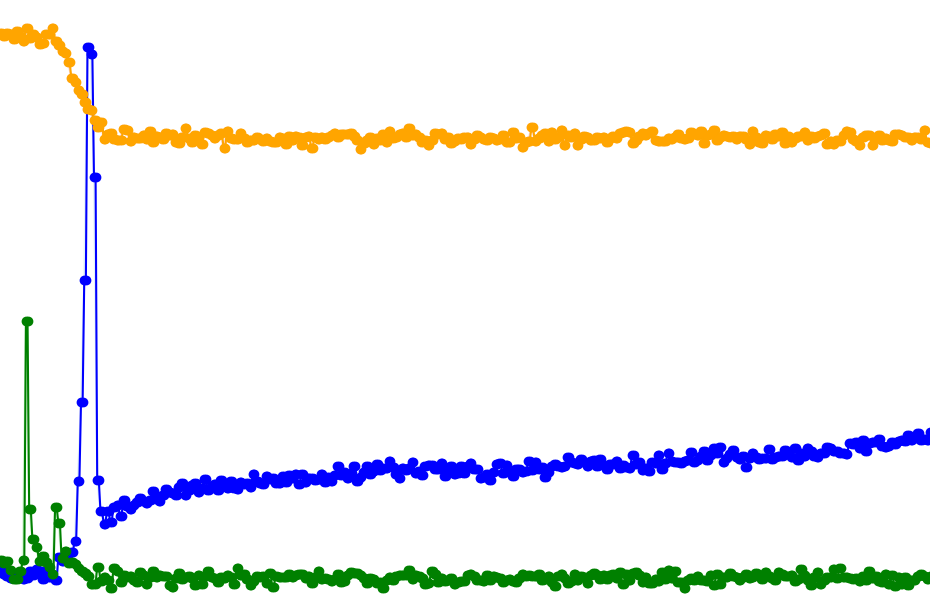Condensation (CO2): (77, 0, 116, 616)
Low O2: (738, 0, 930, 616)
Normal: (116, 0, 738, 616), (738, 0, 930, 616), (0, 0, 116, 616), (0, 0, 77, 616)
O2 Problem: (116, 0, 738, 616), (738, 0, 930, 616)
